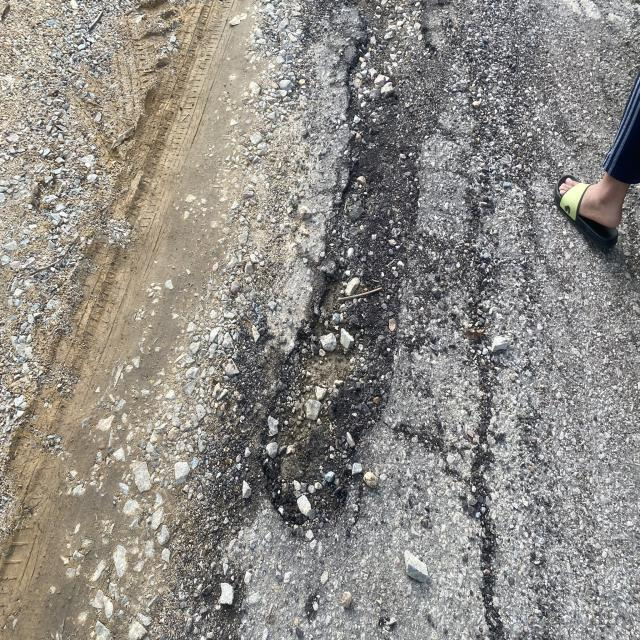pothole: (271, 76, 389, 620)
